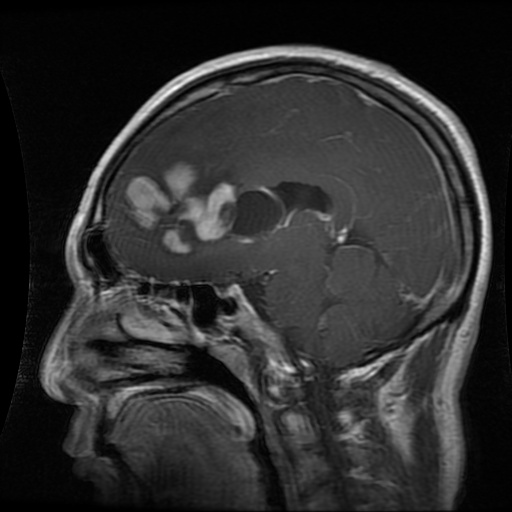glioma: (124, 163, 335, 255)
